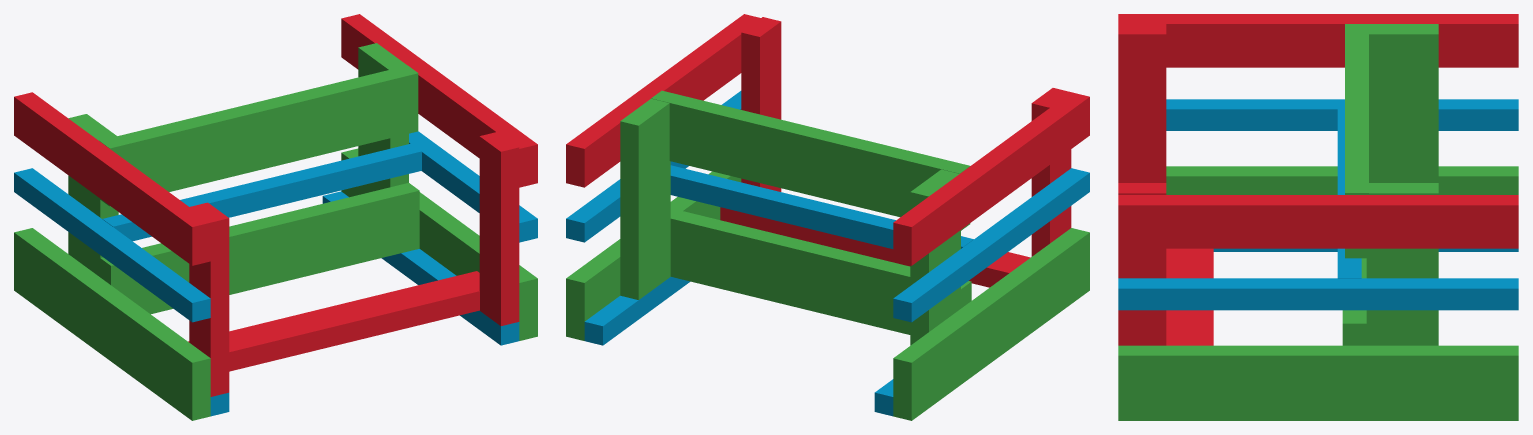
File: tinker.obj
3 renders of one model, left to right at view 1: azimuth 30°, elevation 25°; view 2: azimuth 150°, elevation 25°; view 3: azimuth 270°, elevation 25°, orthographic. The views are drawn at different scales.
Parts seen in each view (by area): view 1: group_0_4634441, group_0_15277357, group_0_40919; view 2: group_0_4634441, group_0_15277357, group_0_40919; view 3: group_0_4634441, group_0_15277357, group_0_40919.
Part boxes in pixels (left/top/right/bottom): group_0_4634441: left=14, top=43, right=537, bottom=420; group_0_15277357: left=14, top=14, right=537, bottom=396; group_0_40919: left=14, top=131, right=537, bottom=416; group_0_4634441: left=566, top=90, right=1089, bottom=420; group_0_15277357: left=566, top=14, right=1089, bottom=287; group_0_40919: left=566, top=91, right=1089, bottom=416; group_0_4634441: left=1118, top=24, right=1518, bottom=420; group_0_15277357: left=1118, top=14, right=1518, bottom=345; group_0_40919: left=1118, top=99, right=1518, bottom=310.
Bounding box in the file's own units: 224 × 120 × 200.
